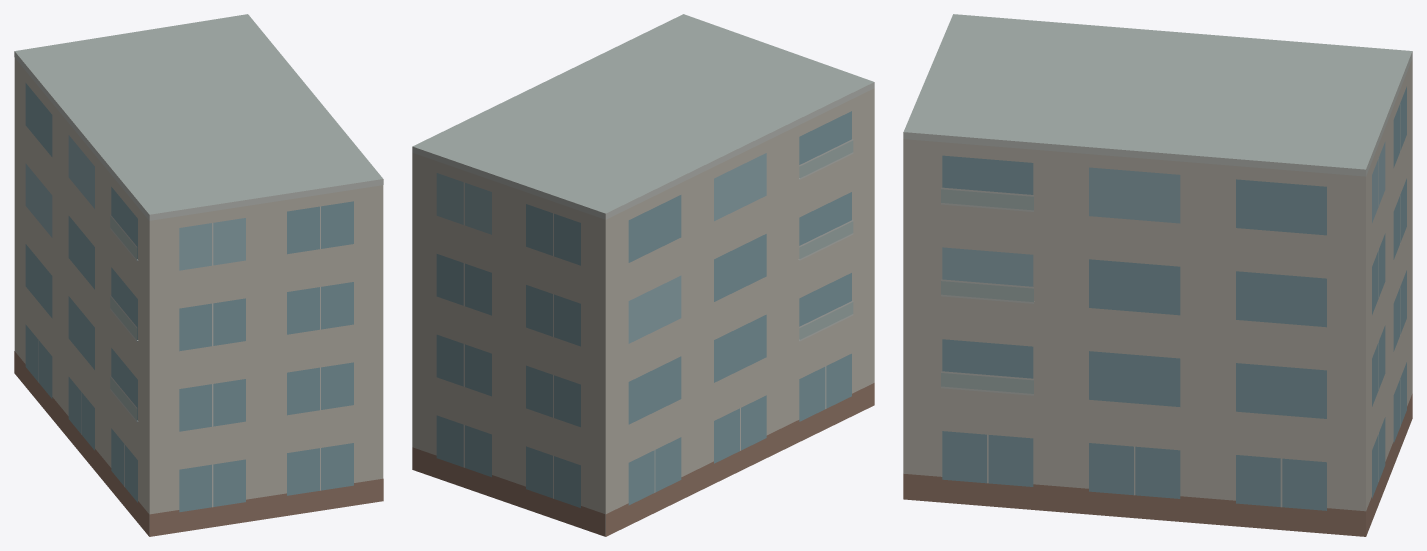
File: survey-upis-32903917.glb
The picture shows the model from 3 angles, left to right: view 1: azimuth 30°, elevation 25°; view 2: azimuth 150°, elevation 25°; view 3: azimuth 270°, elevation 25°; orthographic projection. The views are drawn at different scales.
Parts seen in each view (by area): view 1: survey-upis-32903917.tmp; view 2: survey-upis-32903917.tmp; view 3: survey-upis-32903917.tmp.
Boxes of the visible parts, bbox=[...] form: survey-upis-32903917.tmp: bbox=[14, 14, 383, 536]; survey-upis-32903917.tmp: bbox=[412, 14, 874, 536]; survey-upis-32903917.tmp: bbox=[903, 14, 1412, 536].
Size of the model in its own units: 11.64 by 12.8 by 16.09.
